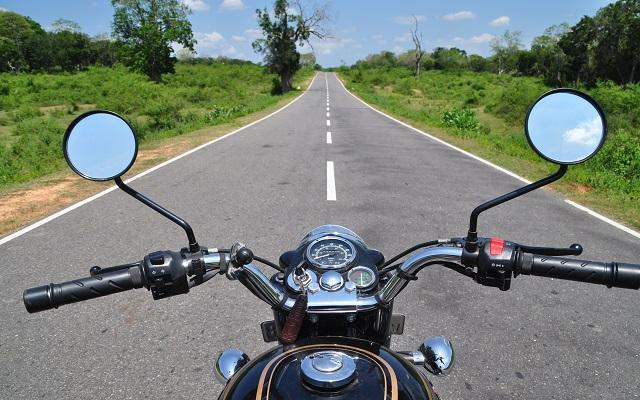motorbike: (23, 87, 640, 400)
